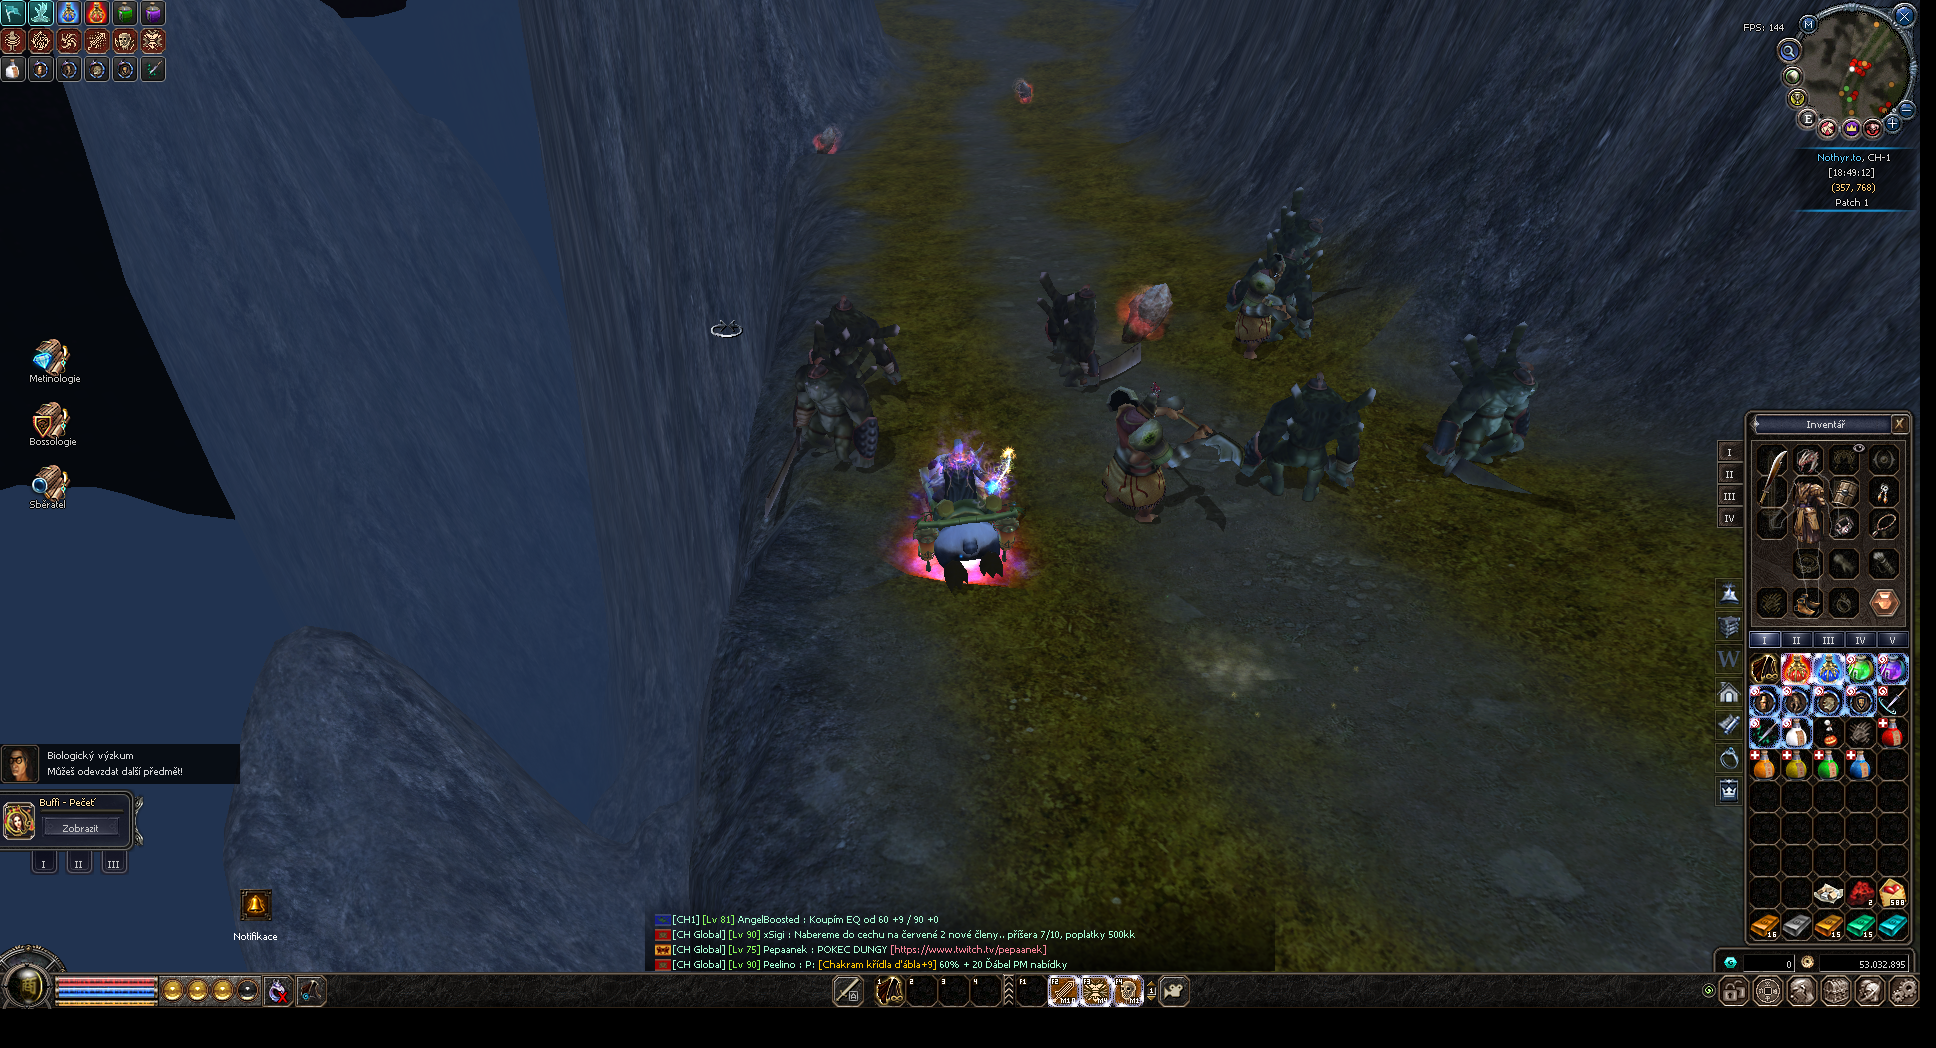Buff: (1124, 280, 1172, 345), (814, 125, 840, 156), (1016, 77, 1035, 106)
Enemy: (1238, 376, 1378, 506), (1437, 317, 1535, 497), (1036, 274, 1142, 386), (790, 354, 874, 466), (813, 299, 900, 401), (1107, 388, 1172, 523), (1260, 185, 1323, 315), (1227, 250, 1283, 358)
Me: (916, 438, 1021, 587)
